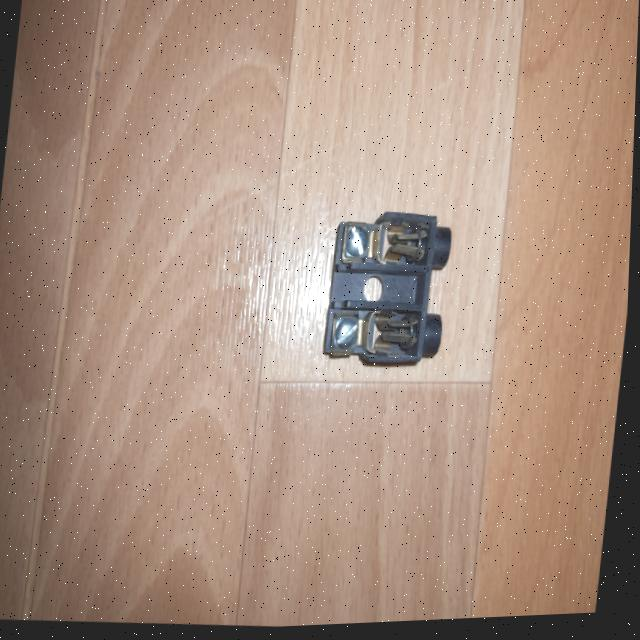Slotted: (332, 316, 359, 351), (344, 224, 370, 257)
